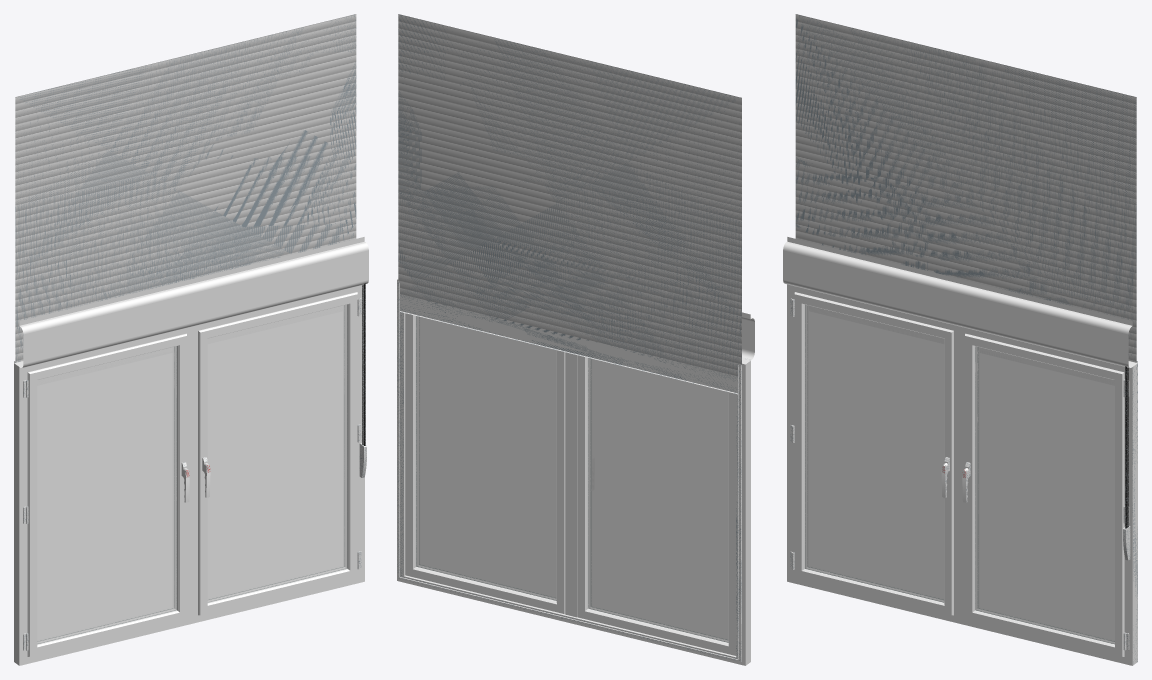
Rendered from Window1_150x143x[2 casement_blinds].dae.
3 renders of one model, left to right at view 1: azimuth 30°, elevation 25°; view 2: azimuth 150°, elevation 25°; view 3: azimuth 330°, elevation 25°, orthographic.
Visible parts, largest first — view 1: group_5 (×4), group_22, group_6 (×5), group_24, group_11; view 2: group_5 (×4), group_22 (×2), group_6 (×4), group_11, group_23 (×2), group_24; view 3: group_5 (×4), group_22, group_6 (×6), group_24, group_11 (×2).
Part boxes in pixels (x1,y1,x2,y2): group_5 (×4): [37, 304, 347, 644]; group_22: [15, 14, 356, 362]; group_6 (×5): [27, 292, 357, 656]; group_24: [19, 237, 368, 367]; group_11: [14, 285, 364, 665]; group_5 (×4): [416, 316, 728, 642]; group_22 (×2): [398, 14, 741, 394]; group_6 (×4): [405, 313, 736, 655]; group_11: [397, 279, 750, 665]; group_23 (×2): [397, 281, 741, 662]; group_24: [742, 312, 754, 359]; group_5 (×4): [805, 304, 1114, 644]; group_22: [795, 14, 1136, 362]; group_6 (×6): [794, 292, 1124, 656]; group_24: [783, 237, 1132, 367]; group_11 (×2): [787, 284, 1137, 665].
Size of the model in its own units: 59.06 by 4.17 by 92.05.
Materials: 12 (1 with a texture image).
